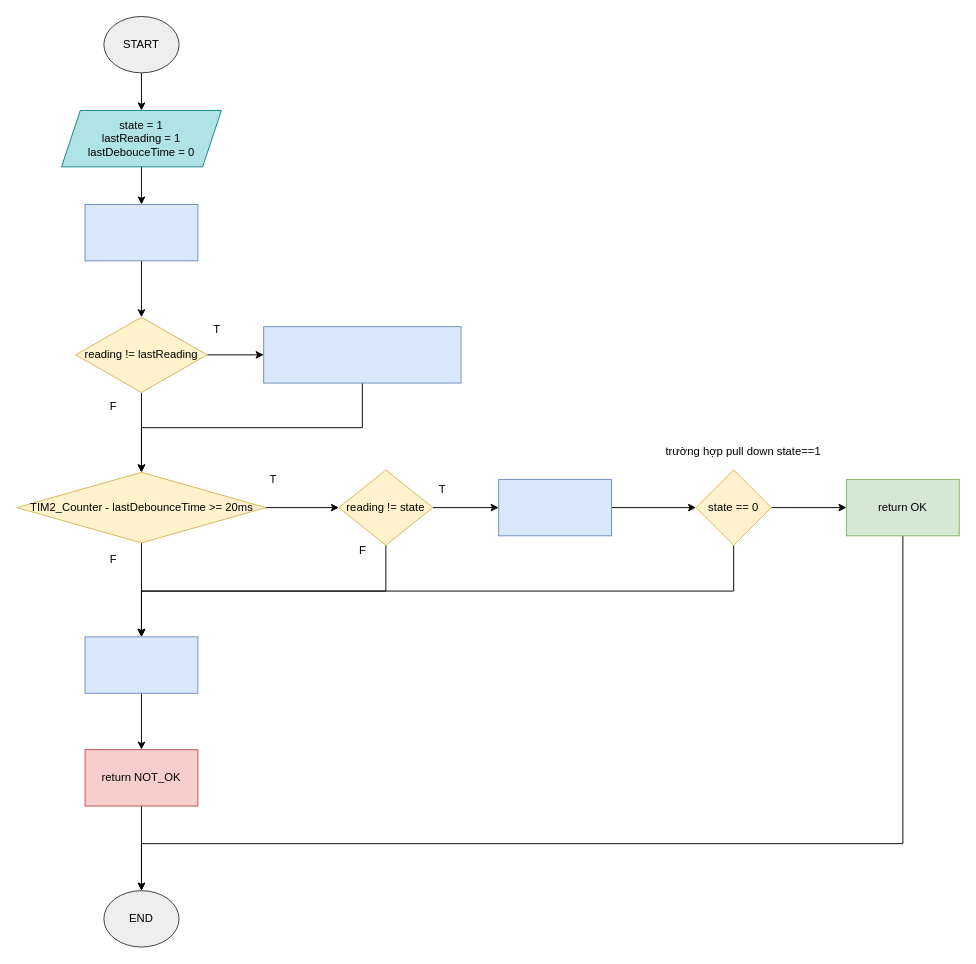
The diagram is 976 pixels wide and 964 high, and some of its shapes have lost their labels. Each missing label, with the centre of its shape:
lastDebounceTime = TIM2_COunter: [362,354]
lastReading = reading: [141,664]
state = reading: [554,507]
uint8 reading = read pin 0: [141,232]
